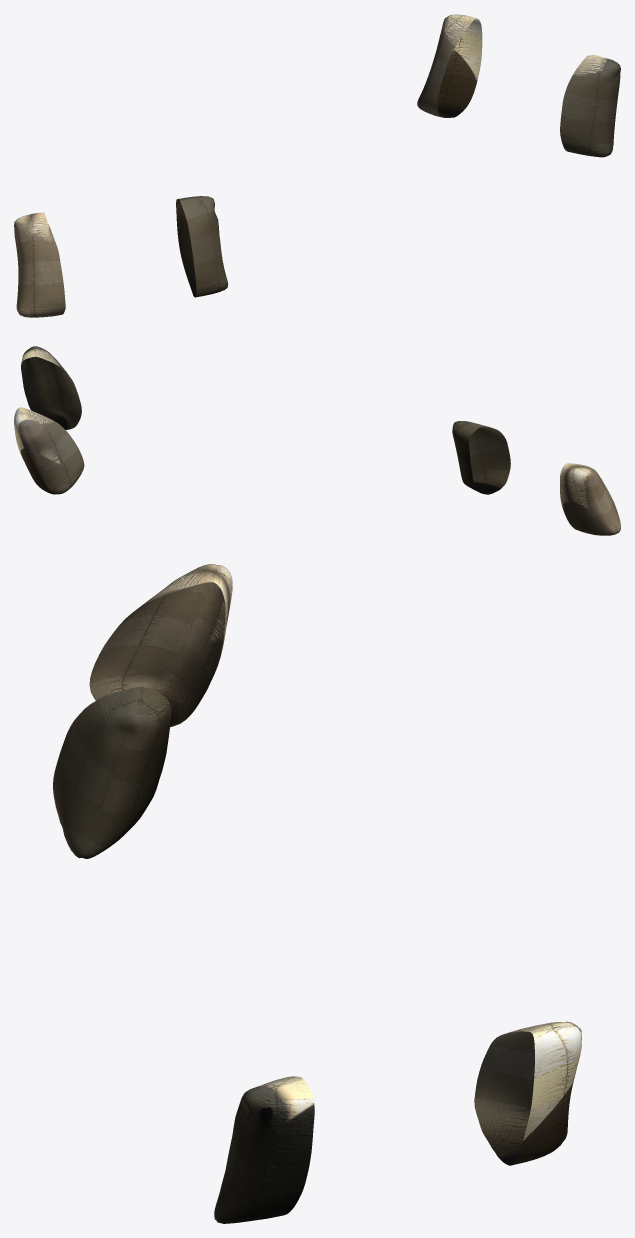
Rendered from pillows.001_tokyo_bed_cushion.001.glb.
The picture shows the model from 3 angles, top to bottom: view 1: azimuth 30°, elevation 25°; view 2: azimuth 150°, elevation 25°; view 3: azimuth 270°, elevation 25°; orthographic projection. The views are drawn at different scales.
Parts seen in each view (by area): view 1: pillows.001_tokyo_bed_cushion.001; view 2: pillows.001_tokyo_bed_cushion.001; view 3: pillows.001_tokyo_bed_cushion.001.
Part boxes in pixels (x1,y1,x2,y2): pillows.001_tokyo_bed_cushion.001: (14,14,620,317); pillows.001_tokyo_bed_cushion.001: (14,346,620,535); pillows.001_tokyo_bed_cushion.001: (53,564,581,1223).
Size of the model in its own units: 1.39 by 0.1839 by 0.5628.
Materials: 1 (1 with a texture image).
